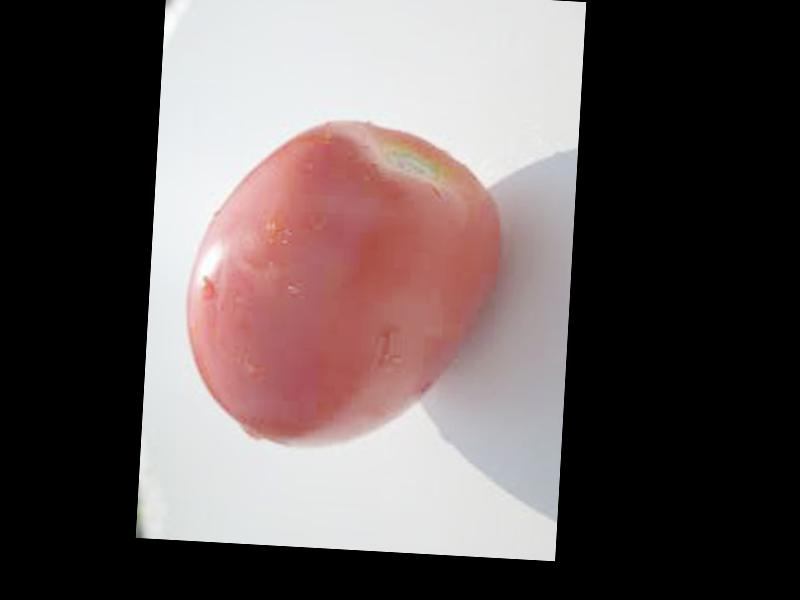Tomato: (178, 112, 505, 456)
